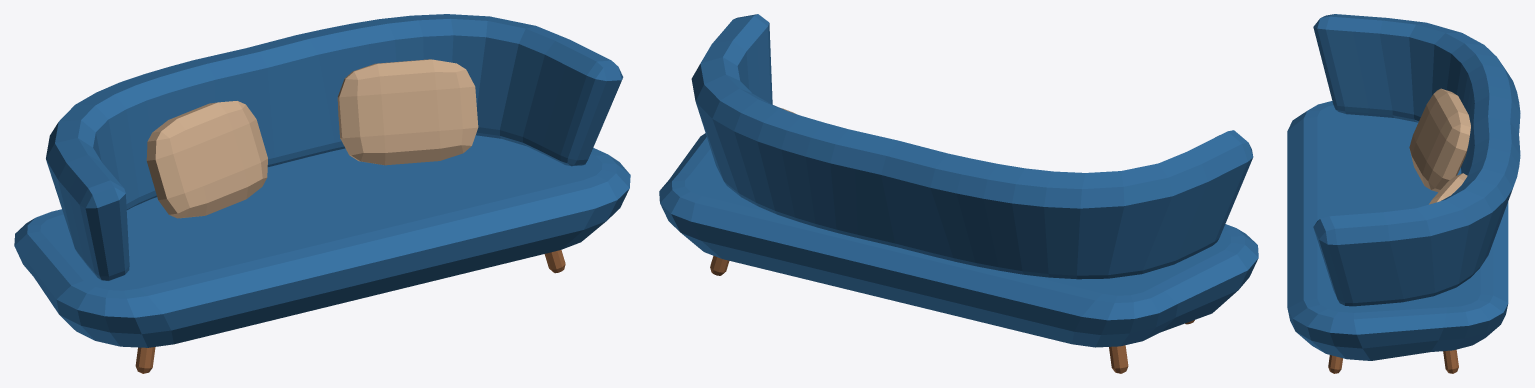
File: Sofa.fbx
The picture shows the model from 3 angles, left to right: view 1: azimuth 30°, elevation 25°; view 2: azimuth 150°, elevation 25°; view 3: azimuth 270°, elevation 25°; orthographic projection. The views are drawn at different scales.
Parts seen in each view (by area): view 1: Sofa; view 2: Sofa; view 3: Sofa.
Part boxes in pixels (x1,y1,x2,y2): Sofa: (14, 14, 630, 373); Sofa: (659, 14, 1258, 373); Sofa: (1287, 14, 1520, 373).
Bounding box in the file's own units: 2.5 × 0.8675 × 1.07.
Materials: 1 (1 with a texture image).
